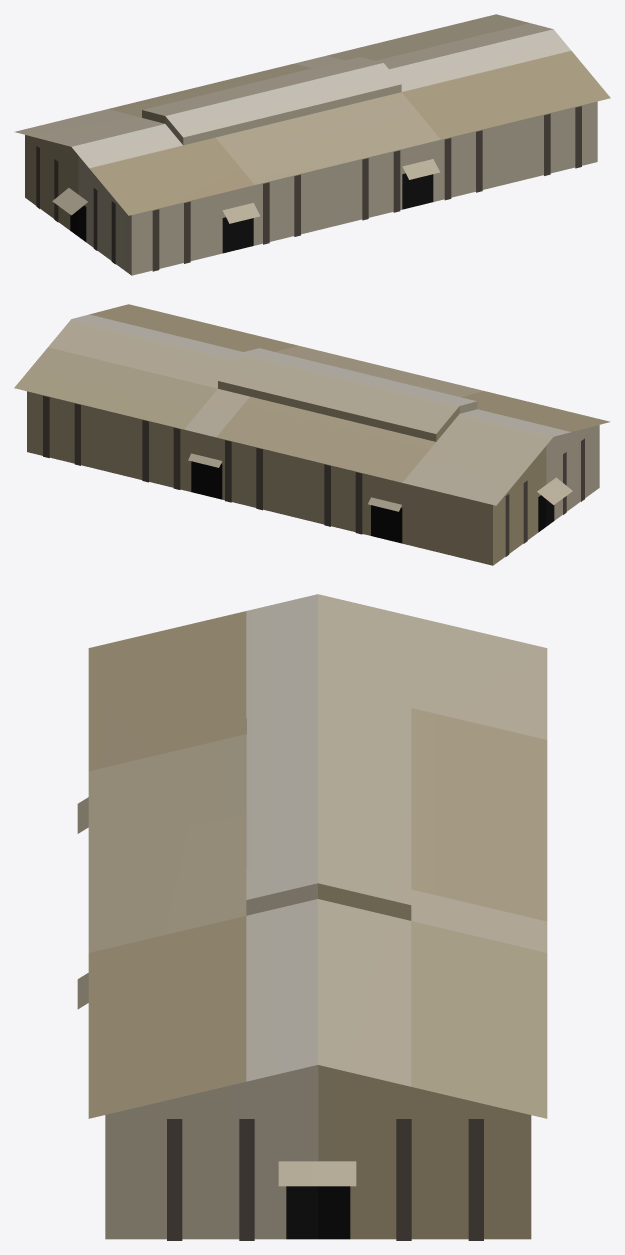
Rendered from SM_Factory_Building_07.fbx.
The picture shows the model from 3 angles, top to bottom: view 1: azimuth 30°, elevation 25°; view 2: azimuth 150°, elevation 25°; view 3: azimuth 270°, elevation 25°; orthographic projection. The views are drawn at different scales.
Visible parts, largest first — view 1: SM_Factory_Building_07; view 2: SM_Factory_Building_07; view 3: SM_Factory_Building_07.
Boxes of the visible parts, left/top/right/bottom form: SM_Factory_Building_07: left=14, top=14, right=610, bottom=275; SM_Factory_Building_07: left=14, top=304, right=610, bottom=565; SM_Factory_Building_07: left=77, top=594, right=547, bottom=1240.
Size of the model in its own units: 12.7 by 2.44 by 5.23.
